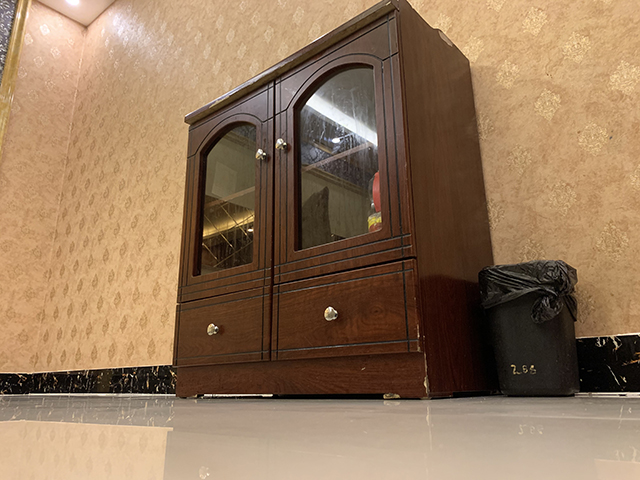cabinet: (171, 1, 495, 402)
trashcan: (477, 257, 582, 399)
